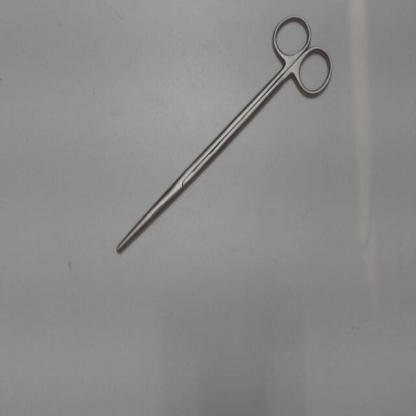9 Metzenbaum Scissors: (113, 6, 341, 259)
